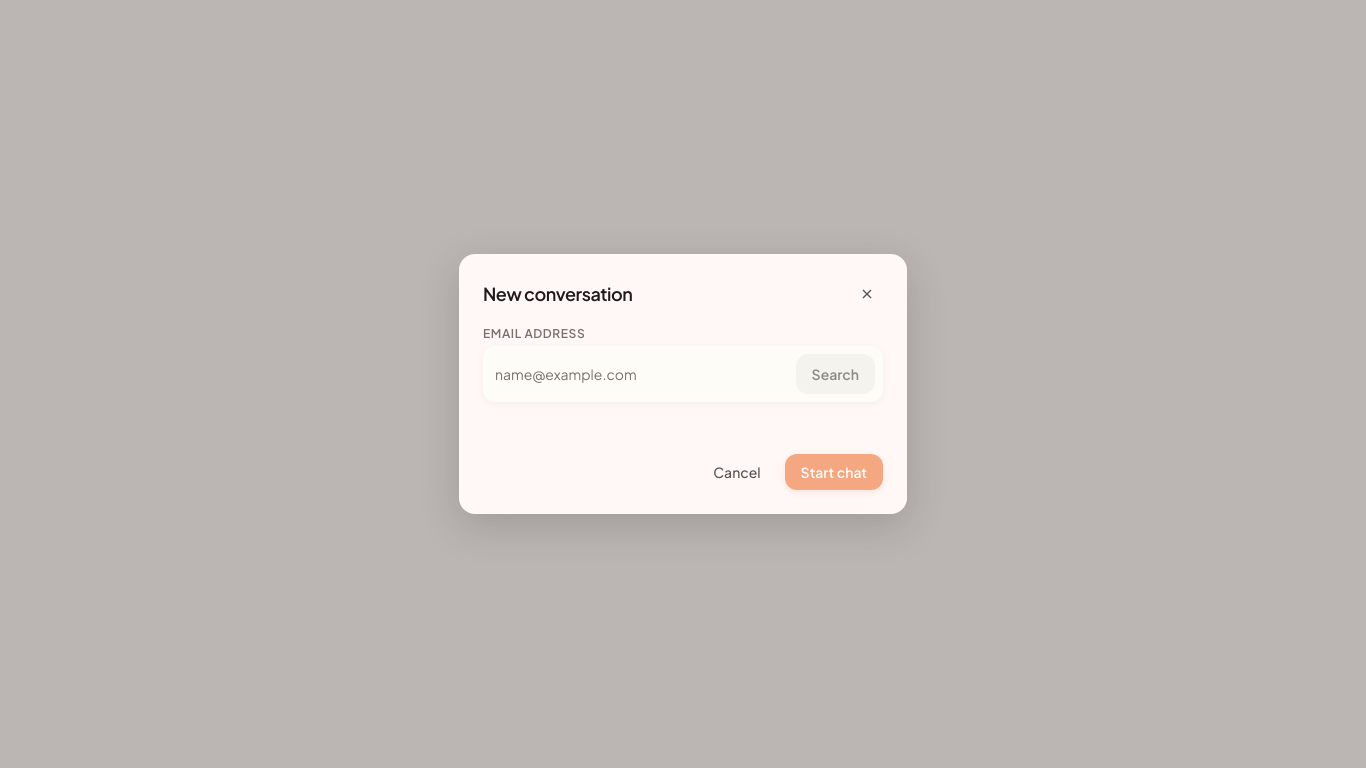
Scenario: диалог создания беседы: состояние одно, и оно наблюдаемо › 429 без Retry-After не выдумывает нуля секунд
Type "maria@example.com" into the field labelled "Email address".
click(639, 374); type("maria@example.com")  # box x1=491 y1=356 x2=788 y2=392
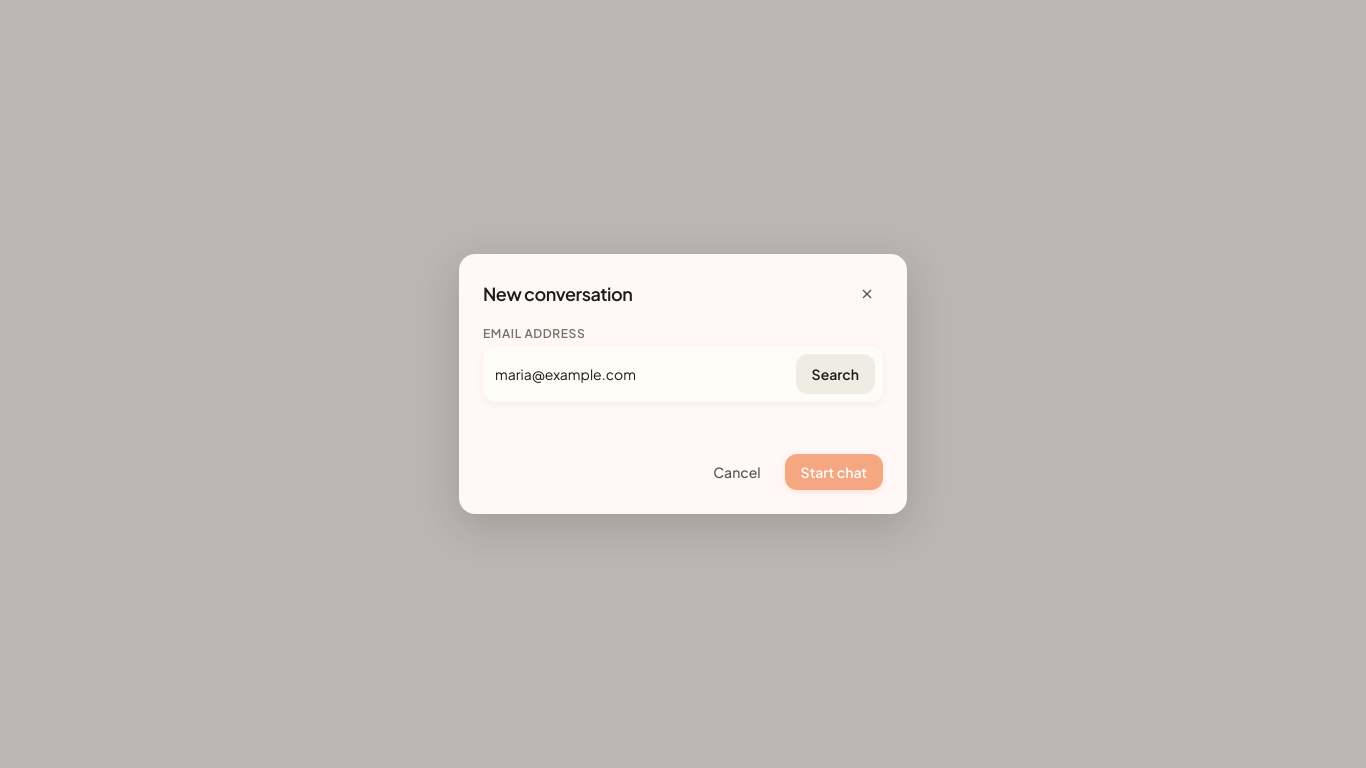
Click the button "Search".
click(835, 374)  # box x1=796 y1=354 x2=875 y2=394
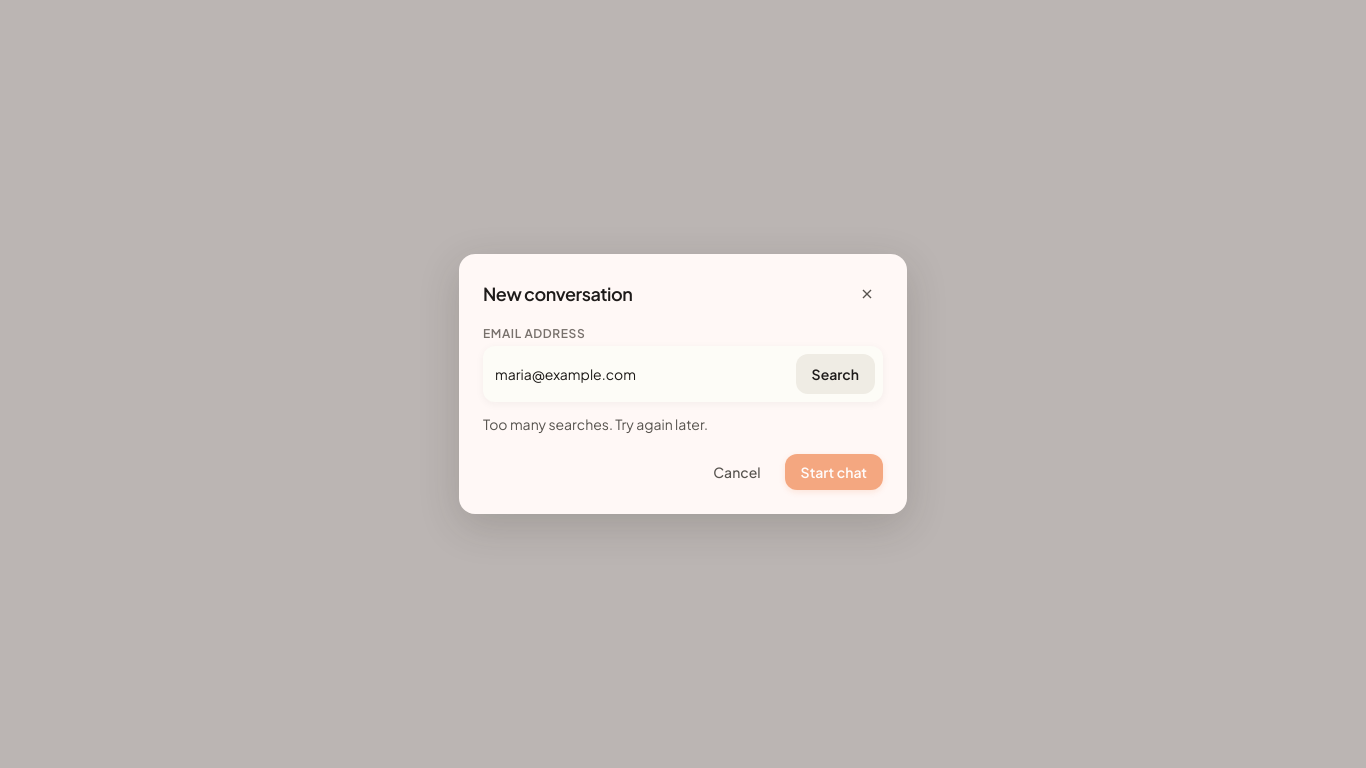
Now the text "Too many searches. Try again later." is shown, box x1=483 y1=415 x2=708 y2=433
